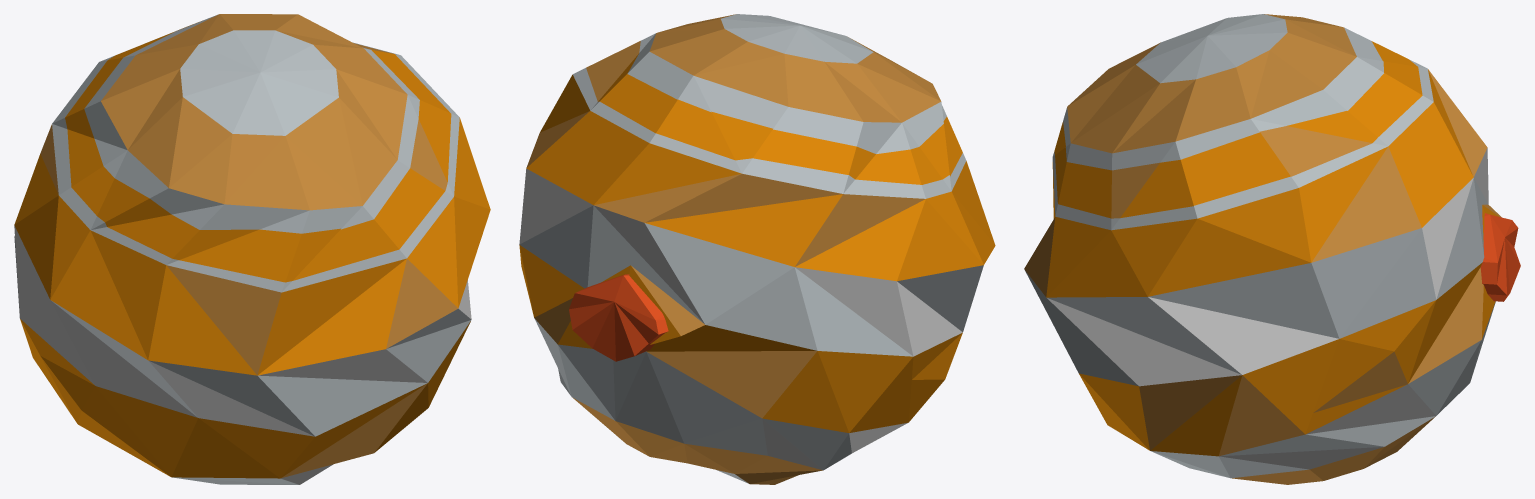
Rendered from Jupiter.glb.
The picture shows the model from 3 angles, left to right: view 1: azimuth 30°, elevation 25°; view 2: azimuth 150°, elevation 25°; view 3: azimuth 270°, elevation 25°; orthographic projection.
Parts seen in each view (by area): view 1: node_MeshObject-2024788544-PolyPaper13.003; view 2: node_MeshObject-2024788544-PolyPaper13.003; view 3: node_MeshObject-2024788544-PolyPaper13.003.
Boxes of the visible parts, x1,y1,x2,y2 form: node_MeshObject-2024788544-PolyPaper13.003: (14,14,490,484); node_MeshObject-2024788544-PolyPaper13.003: (519,14,995,484); node_MeshObject-2024788544-PolyPaper13.003: (1024,14,1520,484).
Size of the model in its own units: 1.15 by 1.15 by 1.19.
